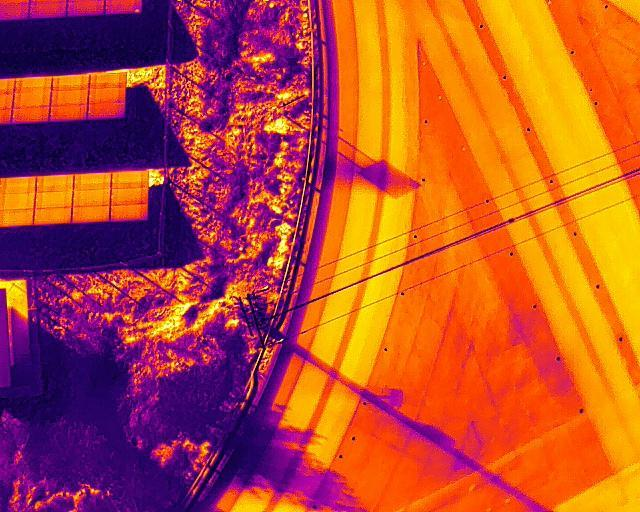Cell: (104, 0, 142, 14)
No-Anomaly: (111, 205, 149, 223), (30, 0, 66, 18), (34, 208, 72, 225), (51, 74, 89, 91), (111, 172, 148, 189), (36, 176, 73, 193), (90, 71, 127, 88), (72, 207, 111, 223), (10, 107, 49, 123), (49, 106, 88, 122), (12, 92, 51, 108), (66, 0, 104, 16), (73, 190, 111, 206), (111, 189, 149, 205), (13, 76, 51, 92), (74, 174, 111, 190), (36, 191, 73, 207), (50, 91, 89, 106), (89, 88, 125, 104), (88, 104, 125, 119), (4, 177, 36, 194), (3, 194, 36, 210), (2, 210, 35, 226), (0, 0, 29, 18)
